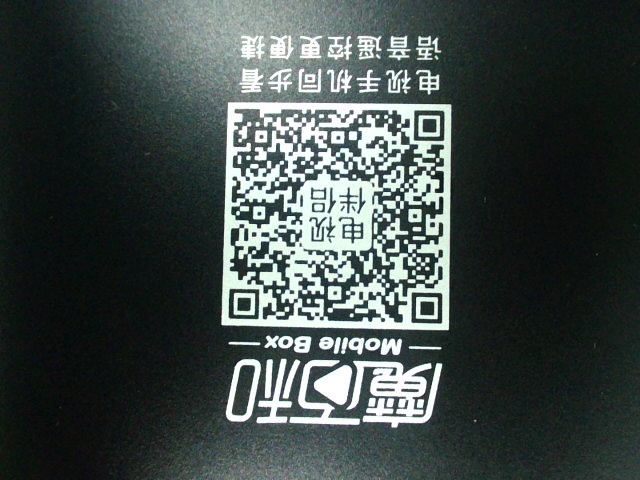AZ_MobileBox: (207, 31, 457, 429)
